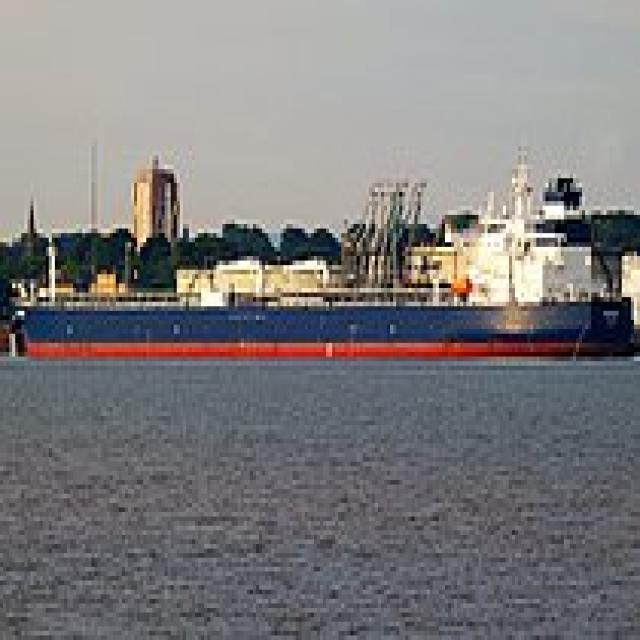Tanker: (6, 124, 634, 361)
